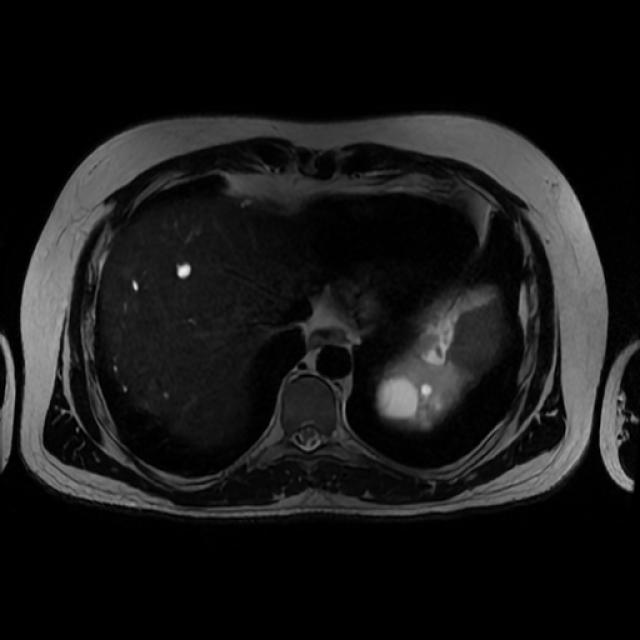sol: (376, 373, 457, 432)
